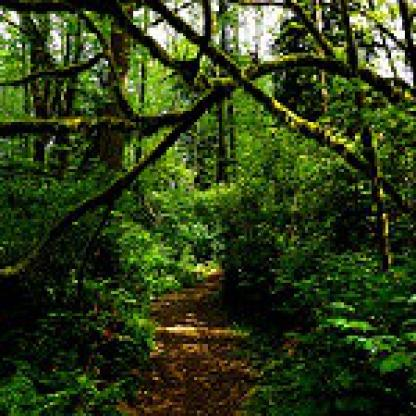trunk: (338, 0, 394, 275), (89, 0, 136, 186), (20, 6, 58, 169), (219, 6, 233, 178)
